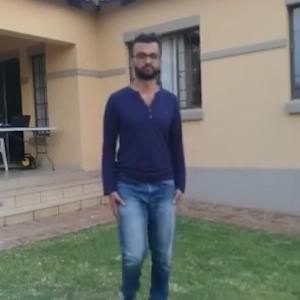follow: (99, 30, 188, 299)
